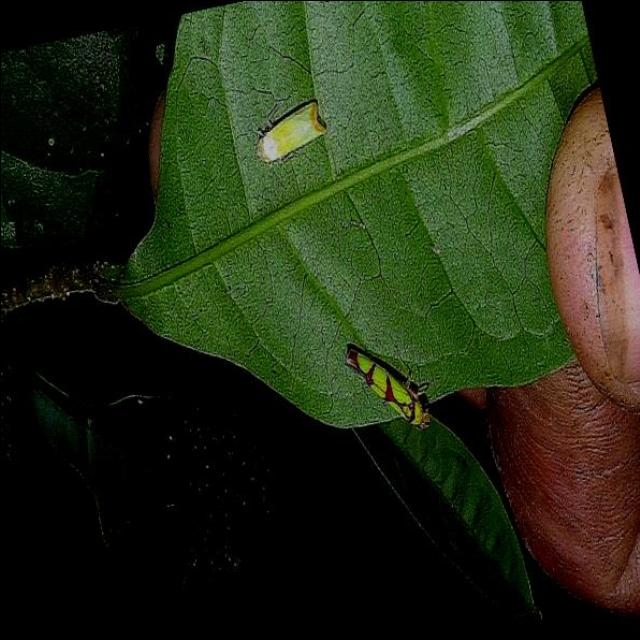green leaf hopper: (347, 344, 428, 428)
